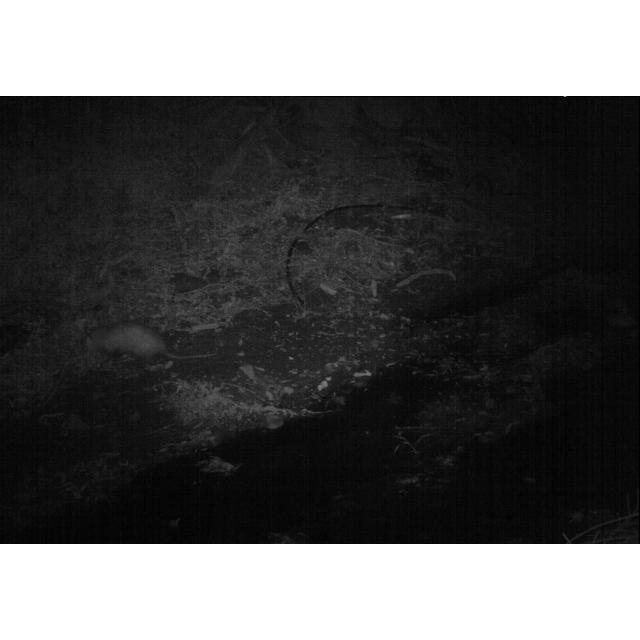animals: (82, 322, 218, 368)
